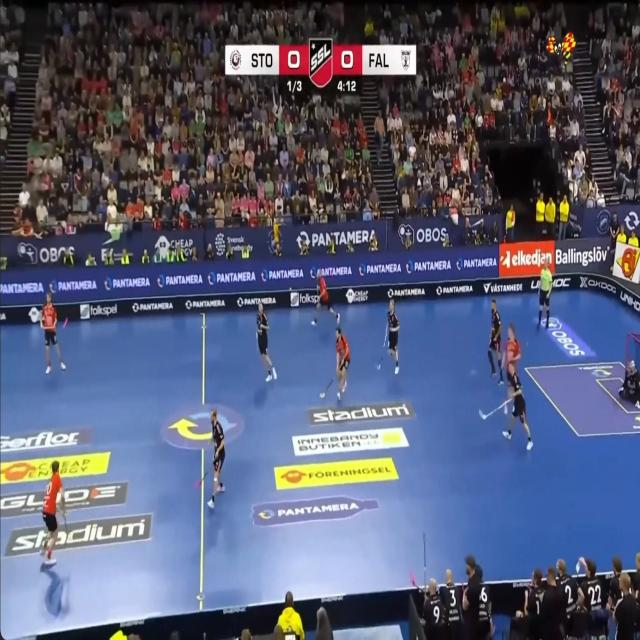player: (502, 362, 532, 450), (42, 460, 65, 565), (41, 292, 66, 373), (207, 409, 225, 509), (256, 302, 276, 382), (312, 269, 339, 324), (487, 298, 503, 383), (502, 323, 520, 384), (537, 260, 553, 328), (336, 327, 350, 399), (387, 299, 399, 374), (503, 404, 507, 414), (507, 394, 508, 398)
stick: (478, 399, 510, 419), (320, 377, 334, 398), (194, 471, 209, 488), (410, 570, 421, 592), (423, 531, 426, 593), (376, 352, 384, 369), (383, 326, 388, 350), (62, 510, 67, 533), (256, 331, 259, 354), (63, 317, 67, 328)
